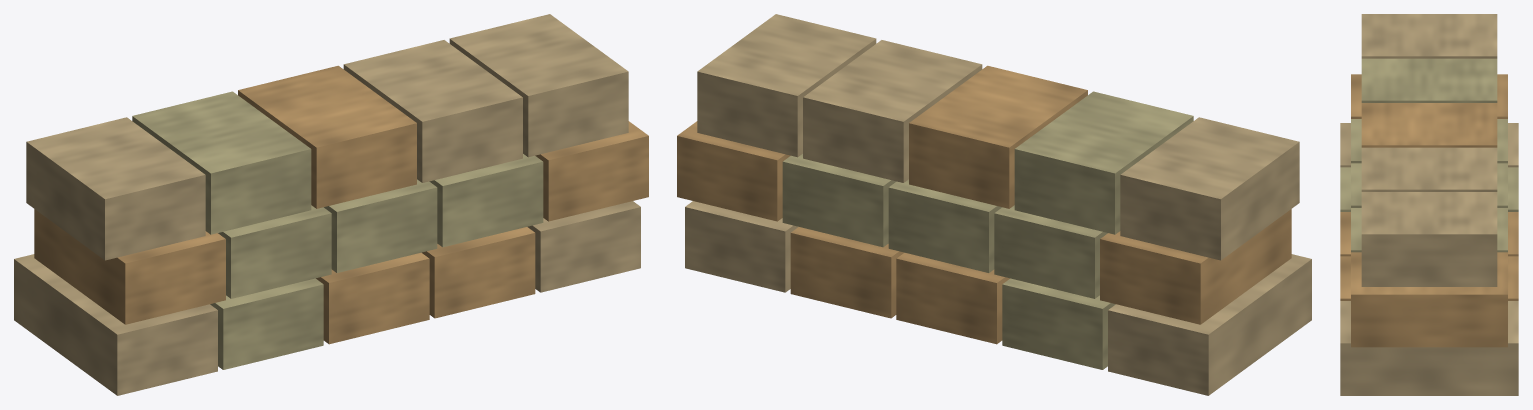
File: barricade_sandbags.fbx
The picture shows the model from 3 angles, left to right: view 1: azimuth 30°, elevation 25°; view 2: azimuth 150°, elevation 25°; view 3: azimuth 270°, elevation 25°; orthographic projection. The views are drawn at different scales.
Parts seen in each view (by area): view 1: barricade_sandbags; view 2: barricade_sandbags; view 3: barricade_sandbags.
Boxes of the visible parts, box(x1,y1,x2,y2) form: barricade_sandbags: box(14, 14, 648, 395); barricade_sandbags: box(677, 14, 1311, 395); barricade_sandbags: box(1340, 14, 1518, 395).
Bounding box in the file's own units: 300 × 100 × 100.
1 material, 1 textured.
